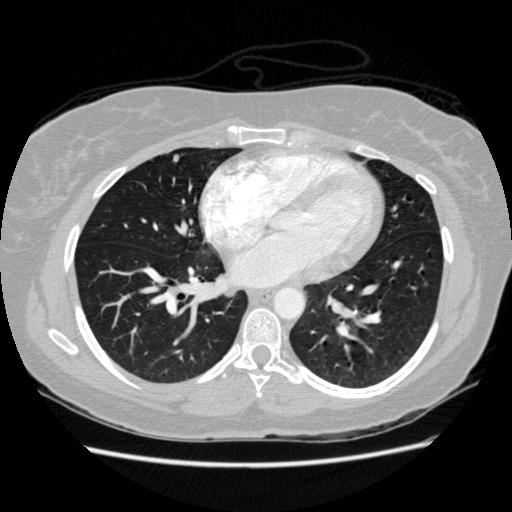nodule: (169, 152, 182, 165)
